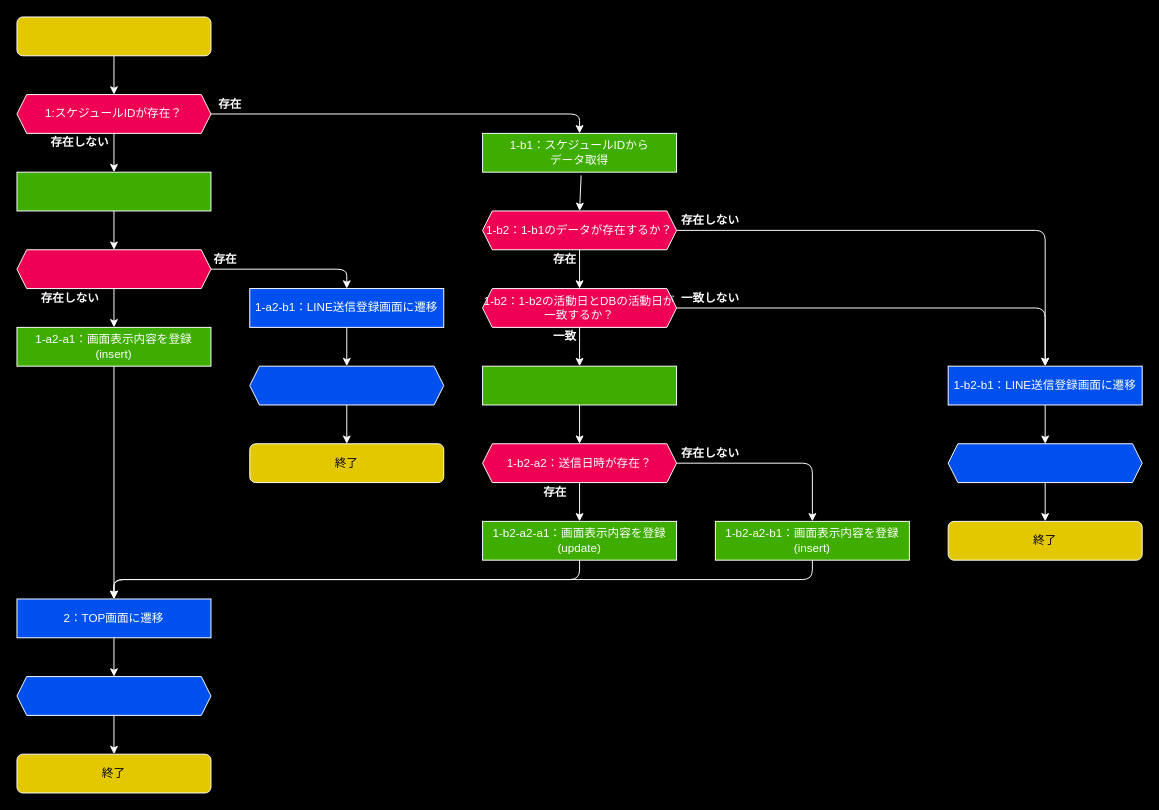
The diagram is 1159 pixels wide and 810 high, and some of its shapes have lost their labels. Here are the shapes that lost their labels. From the top down, the box of each, then its label:
(16, 16, 211, 56): 「登録ボタンタップ」
(16, 171, 211, 211): 1-a1：活動日から データ取得
(16, 249, 211, 289): 1-a2：1-a1のデータが存在するか？
(249, 365, 444, 405): 1-a2-b2：エラーアラートを表示
(482, 365, 677, 405): 1-b2-a1：画面表示内容を登録 (update)
(947, 443, 1142, 483): 1-b2-b2：エラーアラートを表示
(16, 676, 211, 715): 3：登録完了アラートを表示
